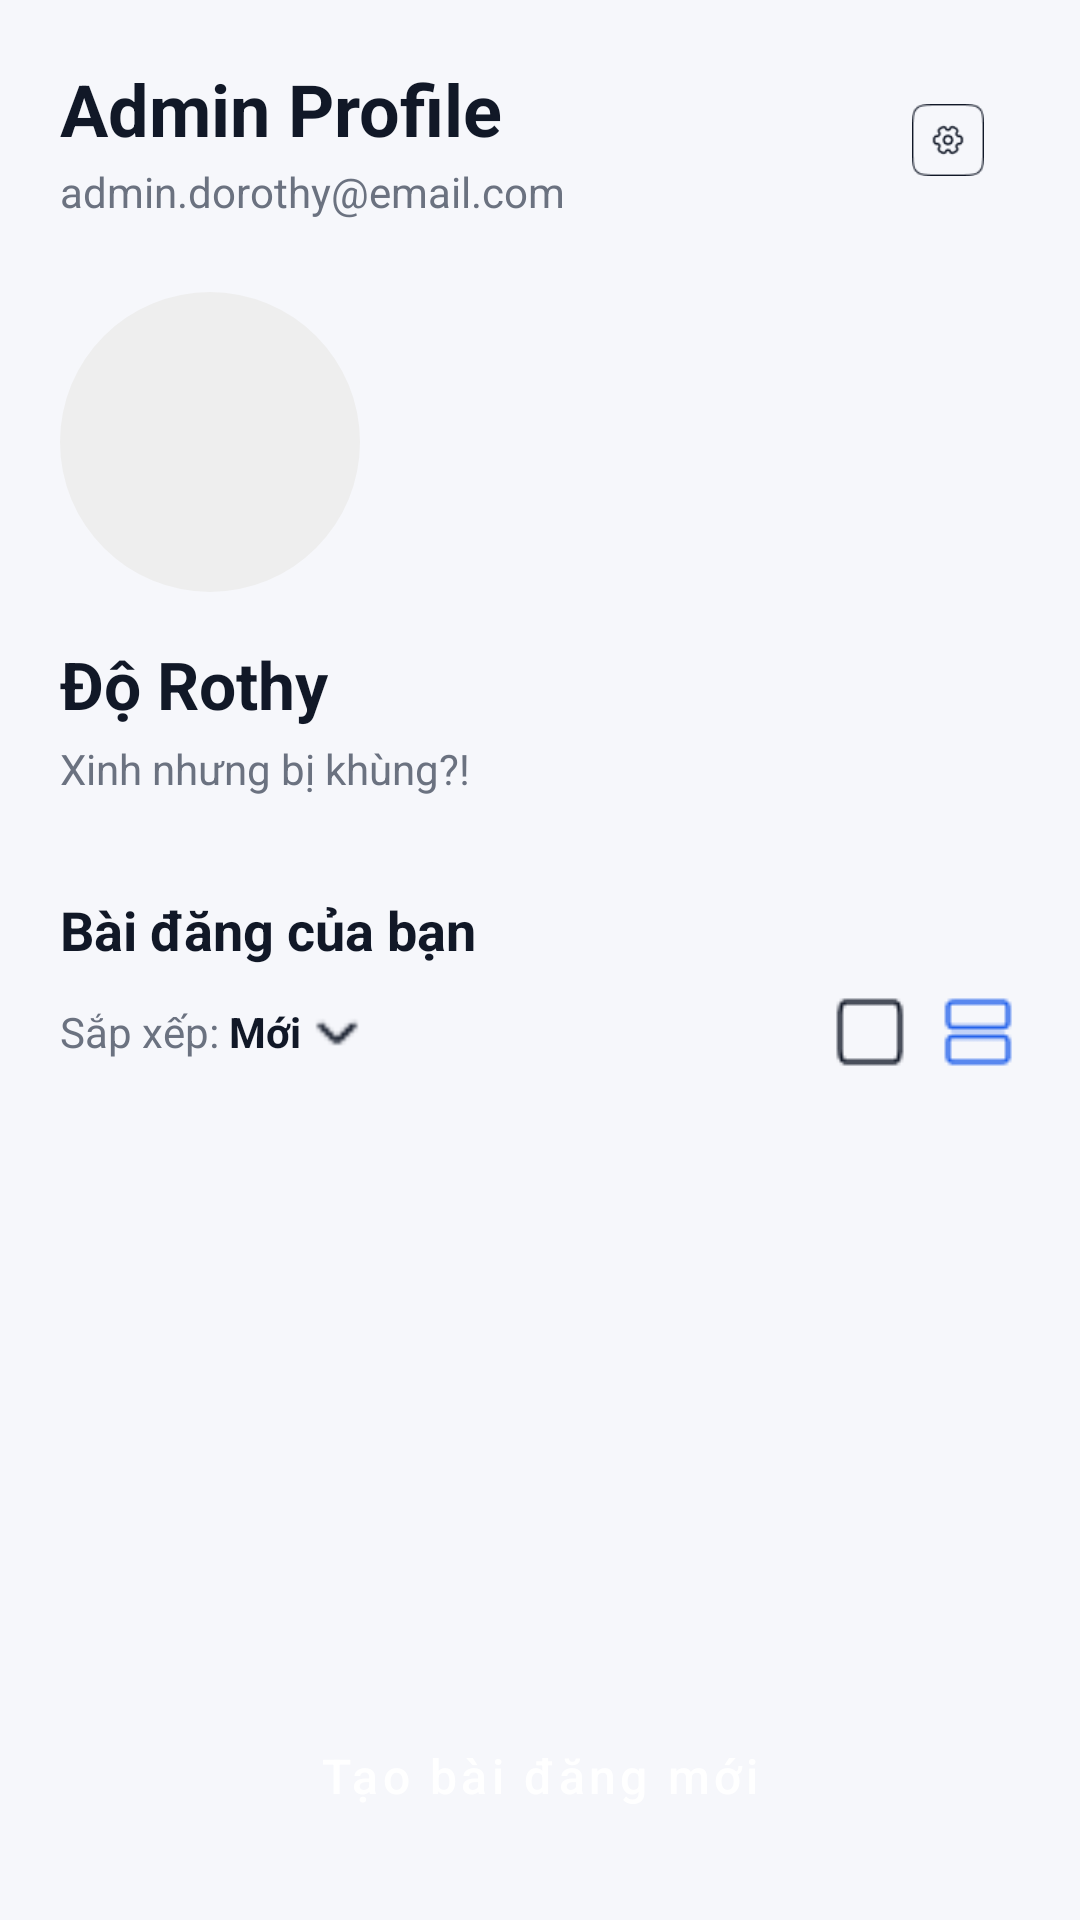

Named icons in this screenshot (1080 x 1920) and their bounding boxes, (x1, y1, x2, y2):
arrow down: (316, 1022, 358, 1045)
list: (944, 998, 1012, 1066)
setting: (912, 104, 984, 176)
